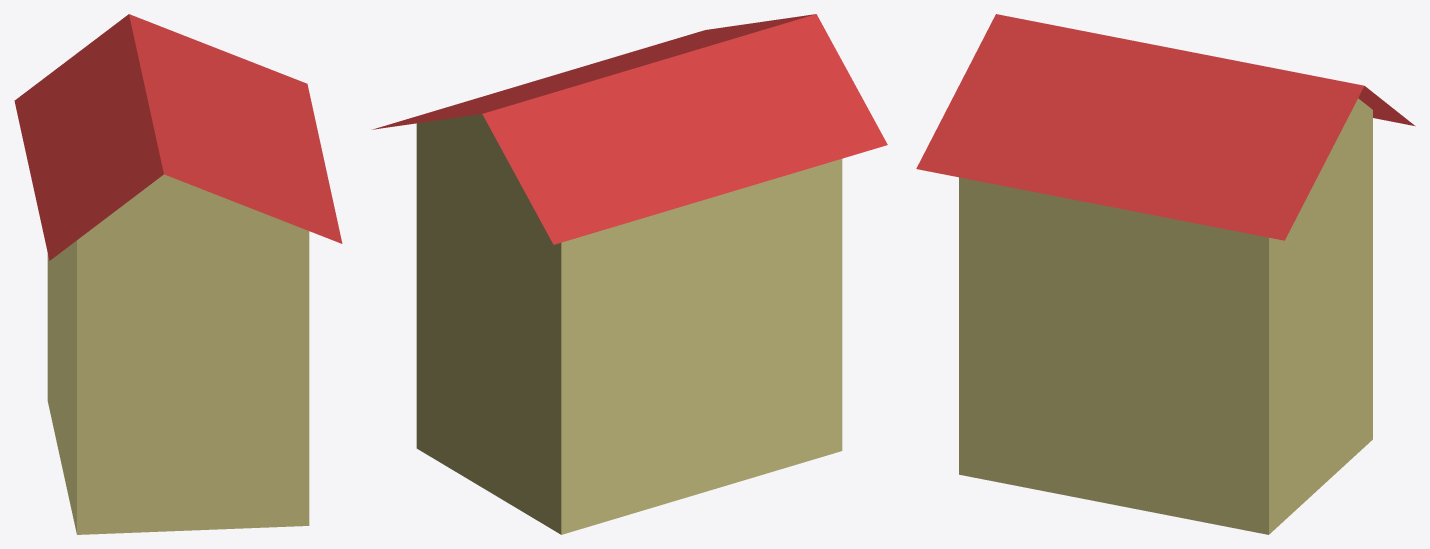
3 views of the same model, side by side, from view 1: azimuth 30°, elevation 25°; view 2: azimuth 150°, elevation 25°; view 3: azimuth 270°, elevation 25° (orthographic). The views are drawn at different scales.
Size of the model in its own units: 7.02 by 7.72 by 6.72.
